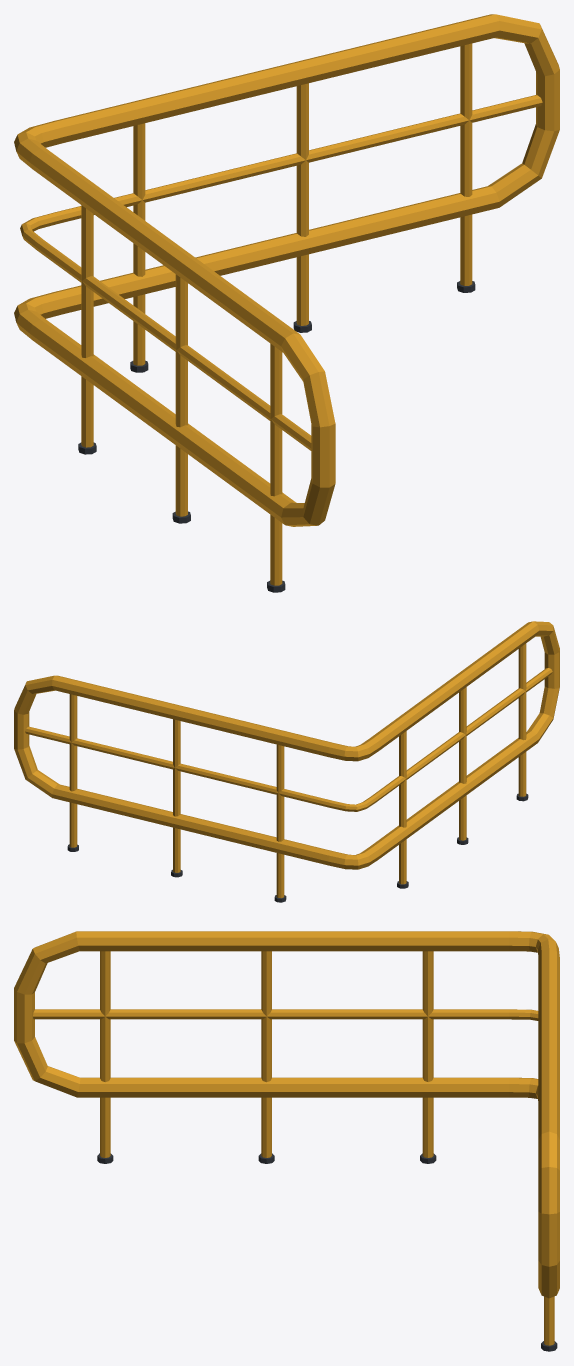
File: Railing_Corner.fbx
3 views of the same model, one above another, from view 1: azimuth 30°, elevation 25°; view 2: azimuth 150°, elevation 25°; view 3: azimuth 270°, elevation 25° (orthographic). The views are drawn at different scales.
Parts seen in each view (by area): view 1: Railing_Corner; view 2: Railing_Corner; view 3: Railing_Corner.
Boxes of the visible parts, x1,y1,x2,y2 form: Railing_Corner: (14, 14, 559, 592); Railing_Corner: (14, 621, 559, 902); Railing_Corner: (14, 931, 559, 1351).
Bounding box in the file's own units: 203 × 93.92 × 203.
